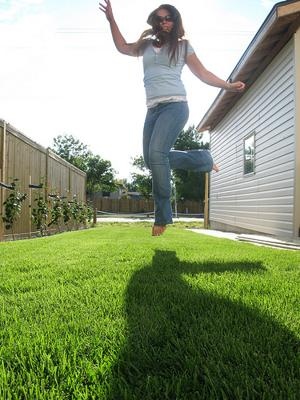person: (102, 2, 246, 241)
